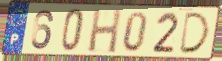0: (61, 7, 88, 53), (121, 11, 148, 54)
2: (151, 11, 179, 55)
6: (31, 9, 55, 51)
D: (177, 11, 212, 55)
H: (87, 8, 123, 55)
